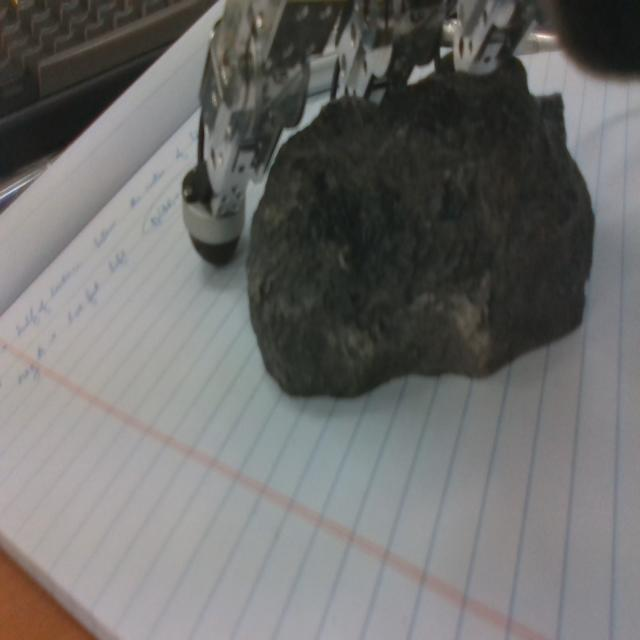stone: (248, 53, 598, 402)
